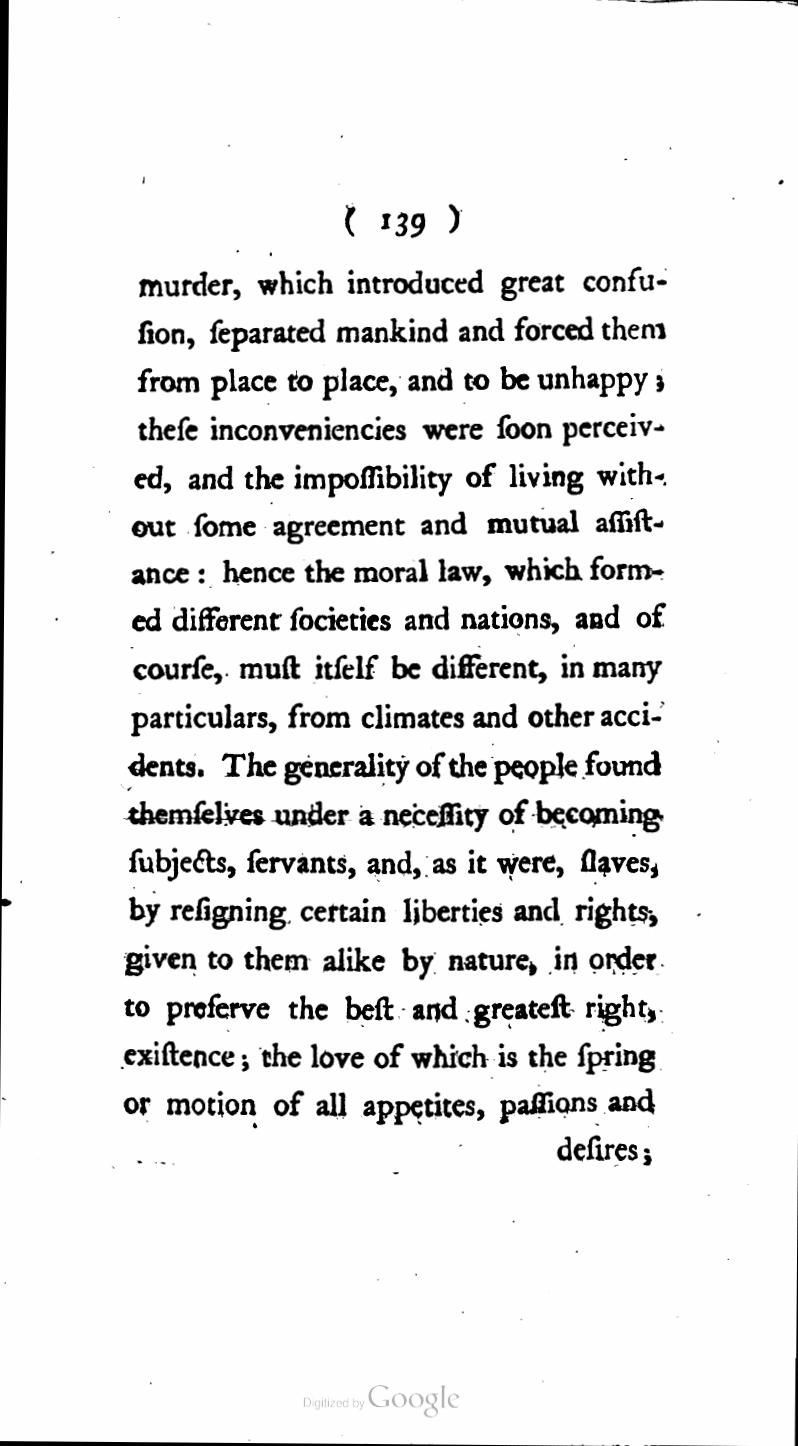catchword: (548, 1130, 650, 1170)
page_num: (378, 208, 430, 240)
top_p: (120, 266, 670, 1126)
